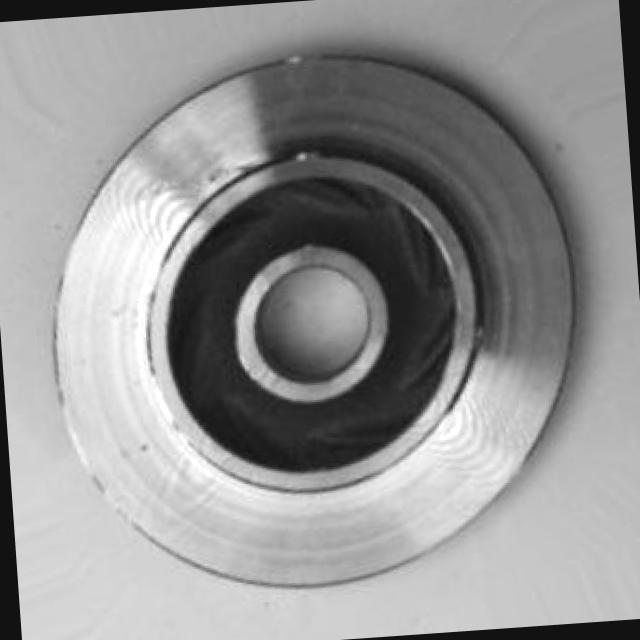Defect: (283, 136, 326, 174)
